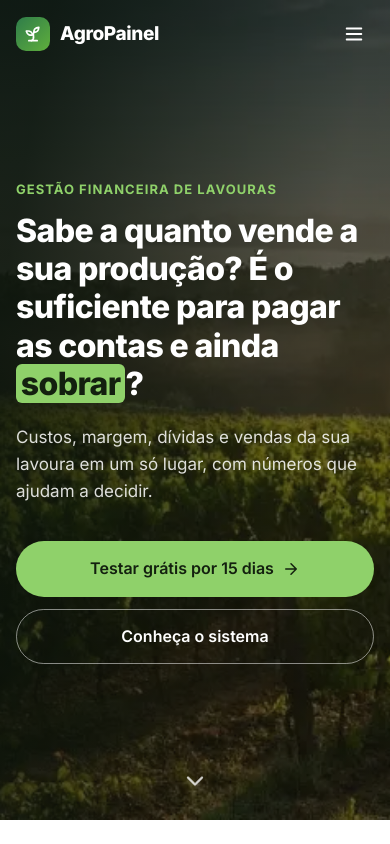
Scenario: Layout mobile › abre e fecha o menu, e fecha ao escolher uma seção
The image size is (390, 844).
Step 1. Click the button with class "header__toggle" → [354, 34], box left=334, top=14, right=374, bottom=54
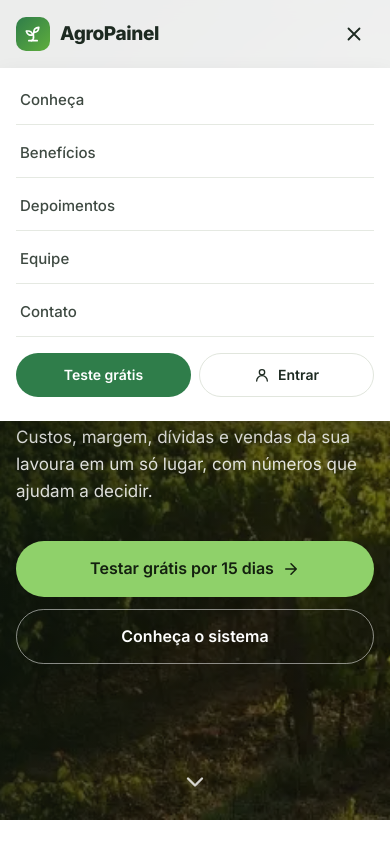
expect the button with class "header__toggle" is expanded: met, box left=334, top=14, right=374, bottom=54
expect the navigation bar with id "menu-principal" is shown: met, box left=0, top=68, right=389, bottom=421
Step 2. Click the link "Equipe" → [45, 259], box left=16, top=235, right=374, bottom=284
(page scrolled)
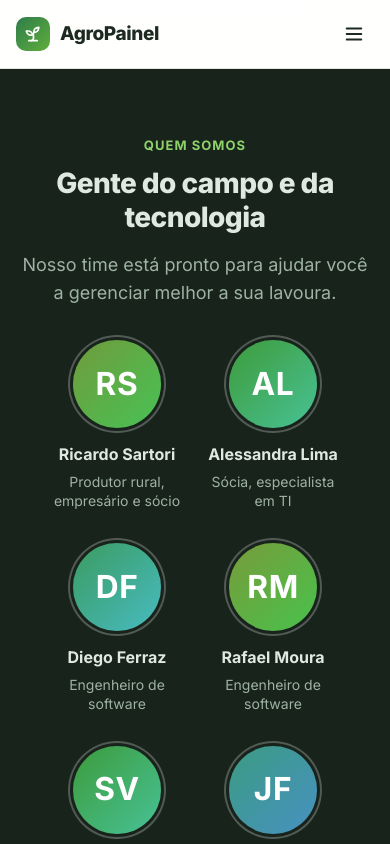
expect the navigation bar with id "menu-principal" is gone: met
